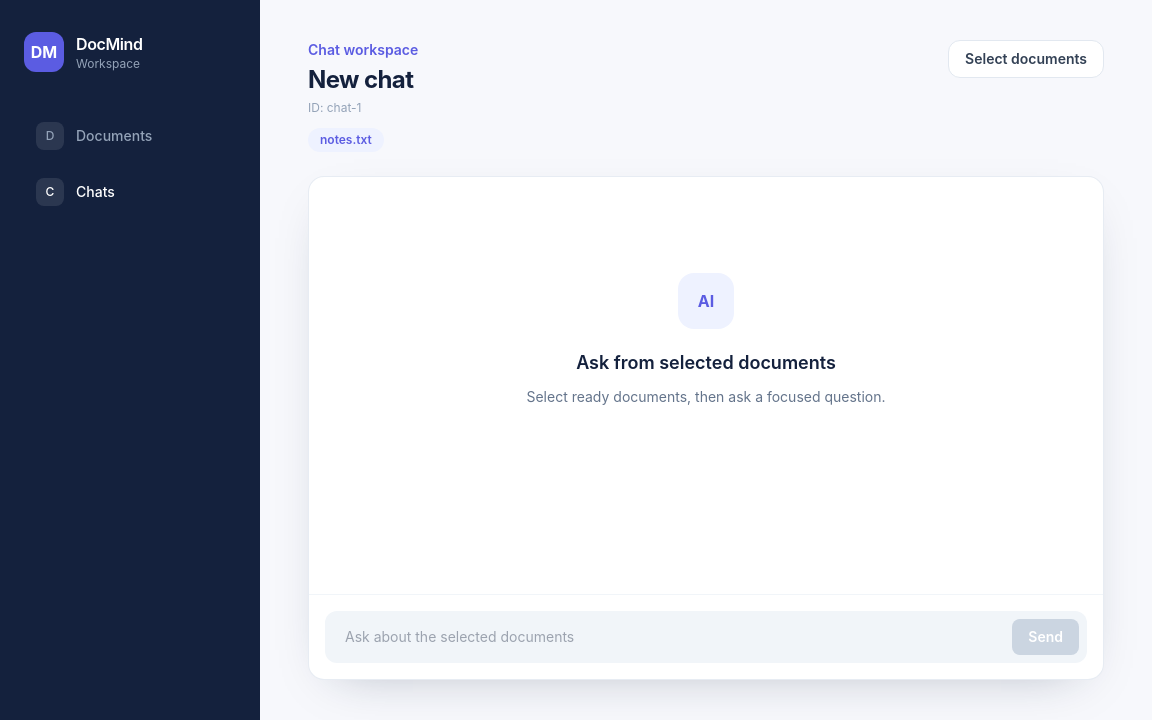
Test case: App › renders streaming errors only once
This screenshot has width=1152, height=720.
Type "What is inside?" into the field with placeholder "Ask about the selected documents" at {"x": 667, "y": 637}, box left=333, top=619, right=1000, bottom=655
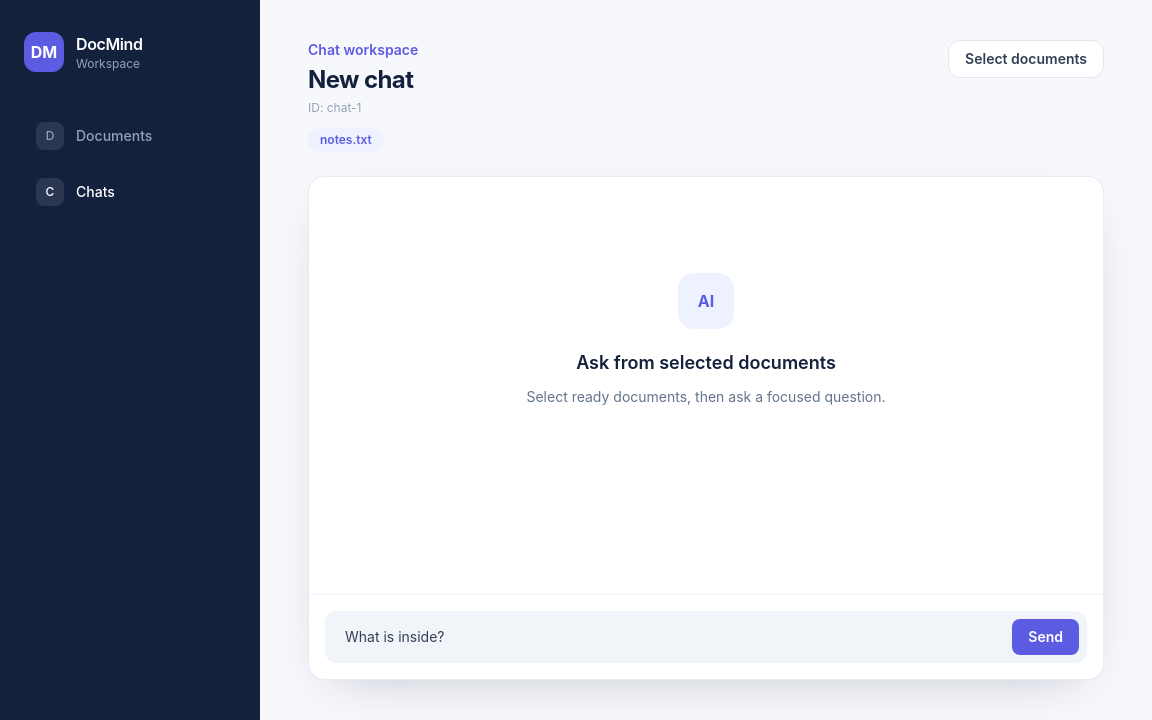
Click the button "Send" at {"x": 1046, "y": 637}, box left=1012, top=619, right=1079, bottom=655
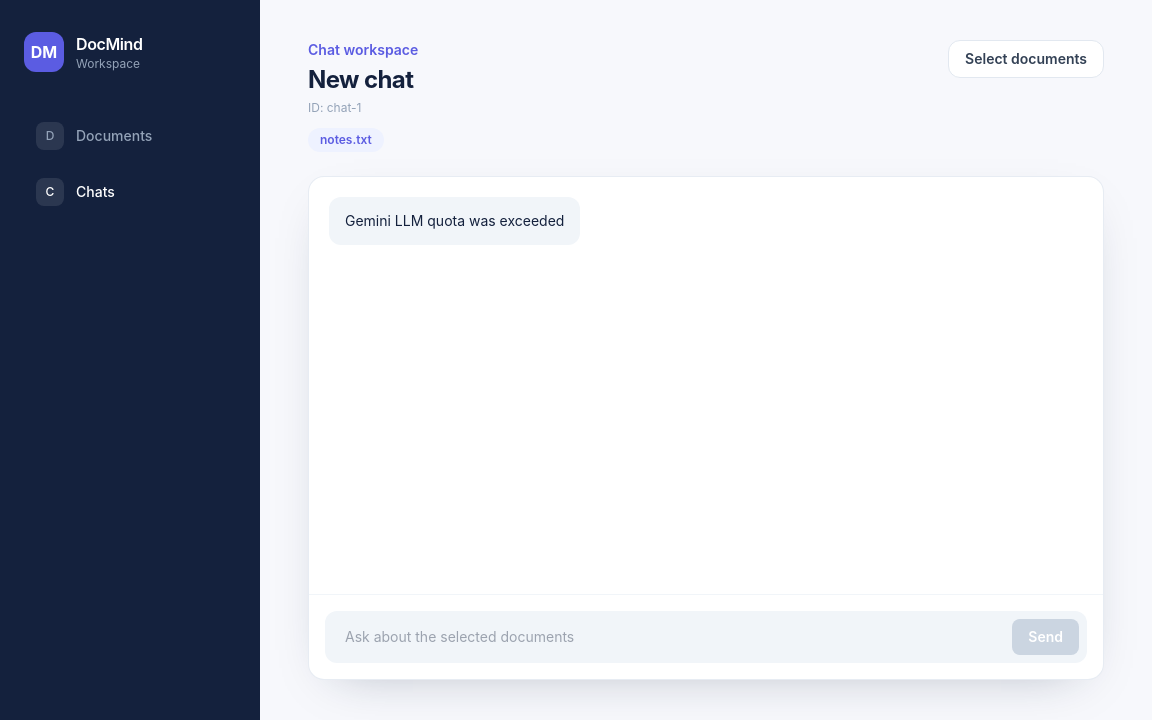
expect the text "Gemini LLM quota was exceeded" is shown once: met, box left=345, top=209, right=564, bottom=233
